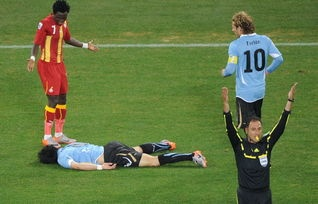falling: (34, 131, 206, 173)
